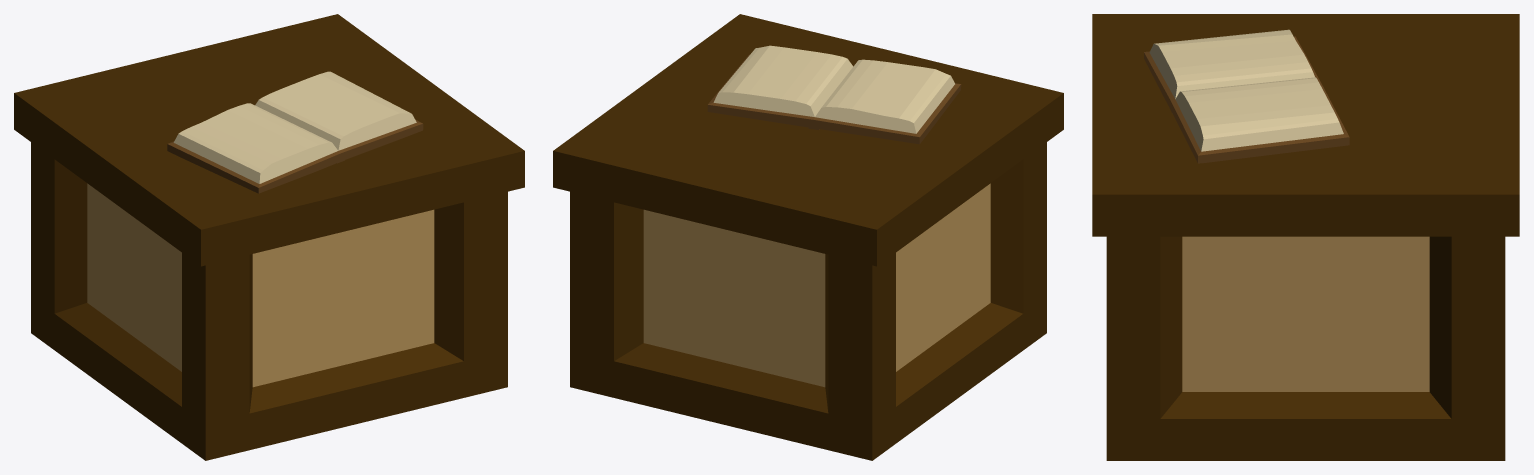
Rendered from Tutorial_3D.glb.
3 views of the same model, side by side, from view 1: azimuth 30°, elevation 25°; view 2: azimuth 150°, elevation 25°; view 3: azimuth 270°, elevation 25° (orthographic). The views are drawn at different scales.
Visible parts, largest first — view 1: Cube, Book; view 2: Cube, Book; view 3: Cube, Book.
Part boxes in pixels (x1,y1,x2,y2): Cube: (14, 14, 524, 460); Book: (167, 71, 423, 193); Cube: (553, 14, 1063, 460); Book: (707, 45, 961, 144); Cube: (1092, 14, 1519, 460); Book: (1144, 29, 1349, 163).
Bounding box in the file's own units: 1.16 × 0.9002 × 1.16.
